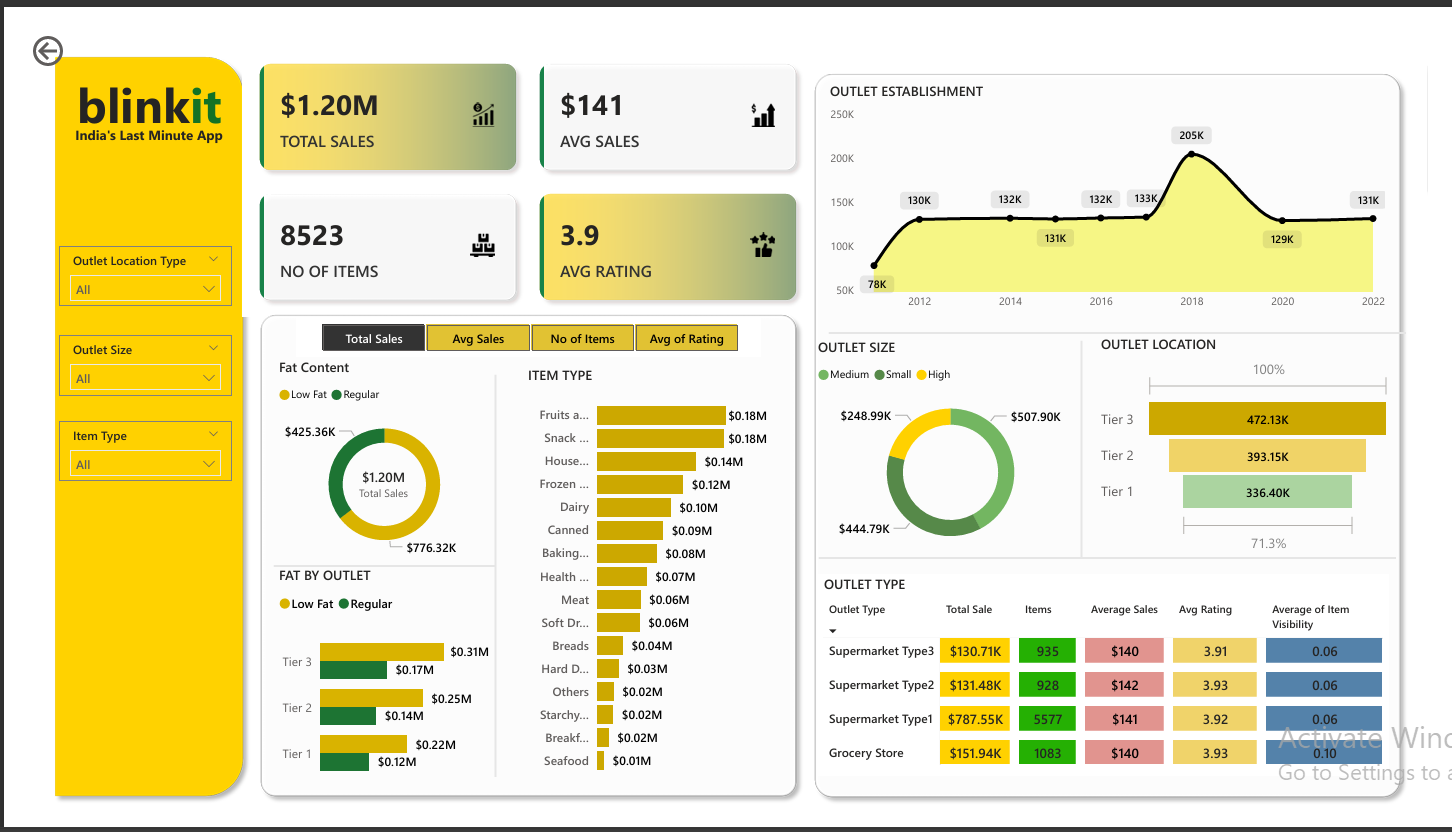

The page's visual inventory and layout, read from the dashboard file:
{"tool":"powerbi","page":{"name":"Page 1","canvas":[1280,720],"ordinal":0},"visuals":[{"type":"cardVisual","fields":{"Data":["Sheet1.TOTAL SALES","Avg(Sheet1.Sales)","CountNonNull(Sheet1.Item Identifier)","Avg(Sheet1.Rating)"]},"box":[0,132.7,220,587.3],"z":0},{"type":"card","fields":{"Values":["CountNonNull(Sheet1.Item Identifier)"]},"box":[904.3,265.7,265.7,142.9],"z":1000},{"type":"shape","box":[0,0,770,140],"z":2000},{"type":"textbox","box":[41.8,15.5,256.4,90],"z":3000},{"type":"textbox","box":[41.8,83.6,270,42.7],"z":4000},{"type":"shape","box":[210,131.4,562.9,588.6],"z":5000},{"type":"slicer","fields":{"Values":["Parameter.Parameter"]},"box":[228.9,146.7,524.4,46.7],"z":6000},{"type":"donutChart","title":"Item Fat Content","fields":{"Y":["Sheet1.Total Sales"],"Category":["Sheet1.Item Fat Content"]},"box":[227.6,198.8,209.8,227.6],"z":7000},{"type":"clusteredBarChart","title":"Fat Content & Outlet Location Type","fields":{"Y":["Sheet1.Total Sales"],"Category":["Sheet1.Outlet Location Type"],"Series":["Sheet1.Item Fat Content"]},"box":[229,457.9,224.9,238.6],"z":8000},{"type":"shape","box":[765.7,0,514.3,718.6],"z":9000},{"type":"slicer","fields":{"Values":["Sheet1.Outlet Establishment Year"]},"box":[290.9,20,181.8,99.1],"z":10000},{"type":"stackedAreaChart","title":"Total Sales by Outlet Establishment Year","fields":{"Y":["Sum(Sheet1.Sales)"],"Category":["Sheet1.Outlet Establishment Year"]},"box":[790,24.3,472.9,227.1],"z":11000},{"type":"donutChart","title":"Total Sales by Outlet Size","fields":{"Category":["Sheet1.Outlet Size"],"Y":["Sum(Sheet1.Sales)"]},"box":[760,290,236.7,237.8],"z":12000},{"type":"funnel","title":"Total Sales by Outlet Location Type","fields":{"Category":["Sheet1.Outlet Location Type"],"Y":["Sum(Sheet1.Sales)"]},"box":[1002.2,290,257.8,237.8],"z":13000},{"type":"pivotTable","fields":{"Rows":["Sheet1.Outlet Type"],"Values":["Sum(Sheet1.Sales)","Avg(Sheet1.Sales)","CountNonNull(Sheet1.Item Identifier)","Avg(Sheet1.Rating)","Avg(Sheet1.Item Visibility)"]},"box":[778.8,559.4,493.6,142.6],"z":14000},{"type":"shape","box":[239.9,416.8,197.4,54.8],"z":15000},{"type":"shape","box":[338.6,209.8,213.9,468.9],"z":16000},{"type":"barChart","title":"Item Type","fields":{"Y":["Sheet1.Total Sales"],"Category":["Sheet1.Item Type"]},"box":[437.4,198.8,312.6,494.9],"z":17000},{"type":"shape","box":[795.7,255.7,455.7,21.4],"z":18000},{"type":"shape","box":[794.4,537.8,456.7,20],"z":19000},{"type":"shape","box":[890,287.8,213.3,241.1],"z":20000},{"type":"slicer","fields":{"Values":["Sheet1.Outlet Type"]},"box":[620,20,130.9,69.1],"z":21000},{"type":"slicer","fields":{"Values":["Sheet1.Outlet Size"]},"box":[480.9,20,130,69.1],"z":22000},{"type":"image","box":[145.7,162.9,47.1,47.1],"z":23000},{"type":"image","box":[145.7,307.1,47.1,44.3],"z":24000},{"type":"image","box":[149.3,451.4,40,40.7],"z":25000},{"type":"image","box":[149.1,590.9,43.6,40],"z":26000}]}

Visuals, with their boxes on the page's 1280x720 design canvas (x1, y1, x2, y2). These are canvas units, not pixel positions in the 1452x832 screenshot, which may show the page scaled, cropped or inside an application window:
cardVisual - Sheet1.TOTAL SALES x Avg(Sheet1.Sales): crop(0, 133, 220, 720)
card - CountNonNull(Sheet1.Item Identifier): crop(904, 266, 1170, 409)
shape: crop(0, 0, 770, 140)
textbox: crop(42, 16, 298, 106)
textbox: crop(42, 84, 312, 126)
shape: crop(210, 131, 773, 720)
slicer - Parameter.Parameter: crop(229, 147, 753, 193)
"Item Fat Content" donutChart: crop(228, 199, 437, 426)
"Fat Content & Outlet Location Type" clusteredBarChart: crop(229, 458, 454, 696)
shape: crop(766, 0, 1280, 719)
slicer - Sheet1.Outlet Establishment Year: crop(291, 20, 473, 119)
"Total Sales by Outlet Establishment Year" stackedAreaChart: crop(790, 24, 1263, 251)
"Total Sales by Outlet Size" donutChart: crop(760, 290, 997, 528)
"Total Sales by Outlet Location Type" funnel: crop(1002, 290, 1260, 528)
pivotTable - Sheet1.Outlet Type x Sum(Sheet1.Sales): crop(779, 559, 1272, 702)
shape: crop(240, 417, 437, 472)
shape: crop(339, 210, 552, 679)
"Item Type" barChart: crop(437, 199, 750, 694)
shape: crop(796, 256, 1251, 277)
shape: crop(794, 538, 1251, 558)
shape: crop(890, 288, 1103, 529)
slicer - Sheet1.Outlet Type: crop(620, 20, 751, 89)
slicer - Sheet1.Outlet Size: crop(481, 20, 611, 89)
image: crop(146, 163, 193, 210)
image: crop(146, 307, 193, 351)
image: crop(149, 451, 189, 492)
image: crop(149, 591, 193, 631)
